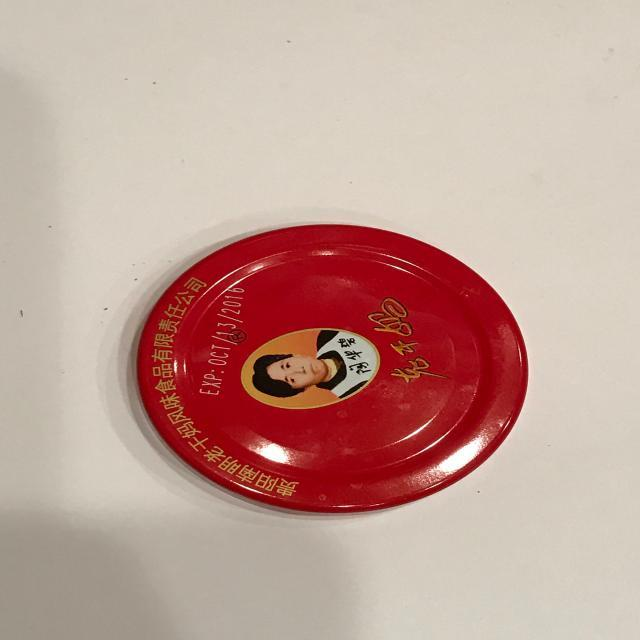metal: (131, 222, 532, 517)
